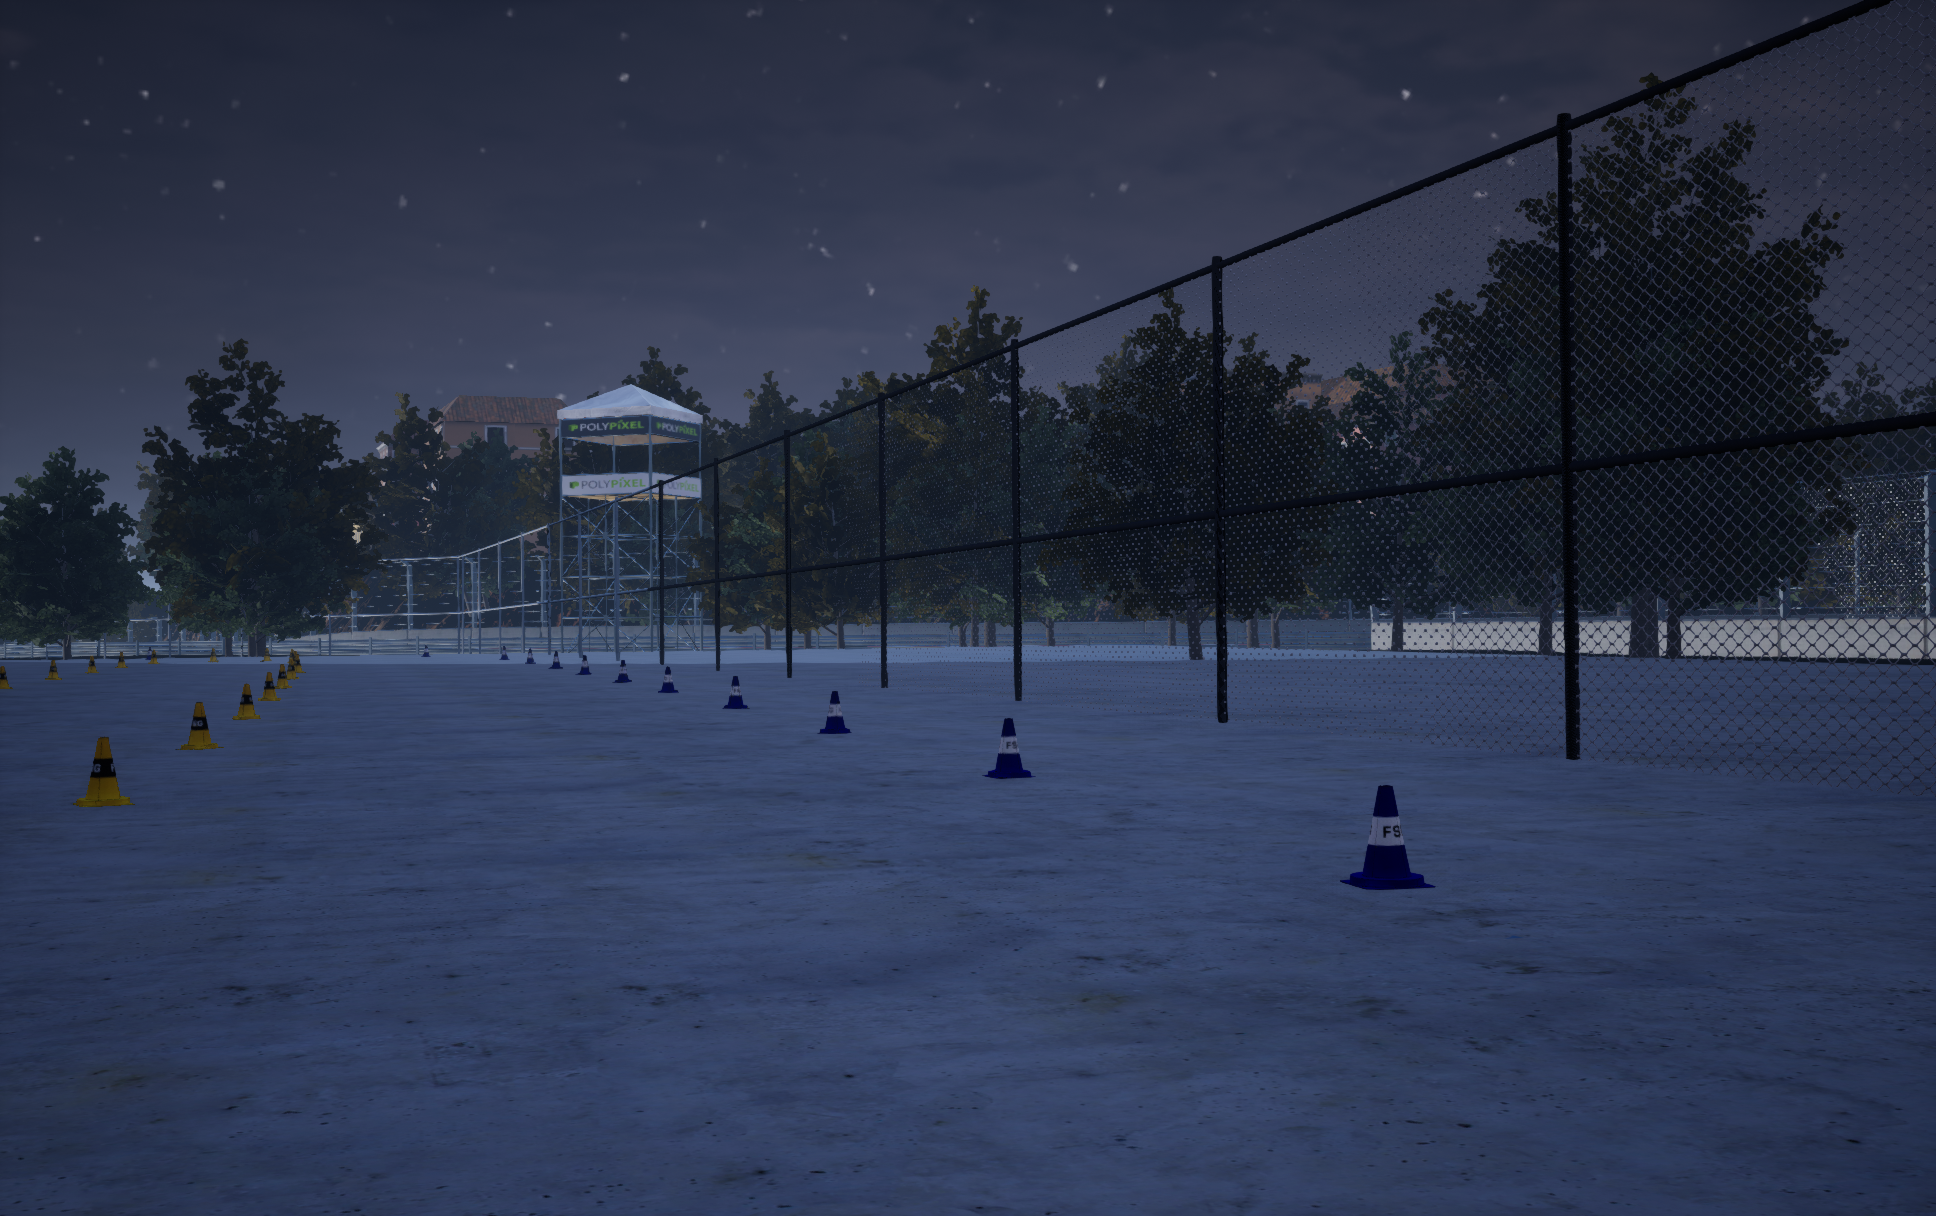blue: (73, 737, 134, 806), (175, 702, 223, 749), (233, 684, 261, 719), (258, 672, 280, 700), (275, 664, 291, 688), (45, 660, 62, 679), (0, 665, 13, 688), (286, 658, 298, 679)
yellow: (1341, 785, 1434, 890), (982, 719, 1035, 778), (817, 691, 850, 733), (721, 677, 749, 707), (658, 665, 678, 692), (612, 660, 630, 682), (574, 656, 591, 674)
